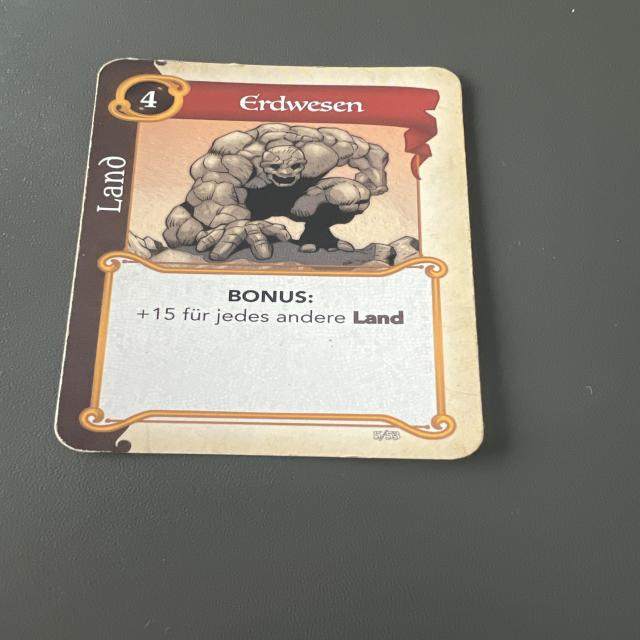Earth Elemental: (48, 57, 489, 462)
